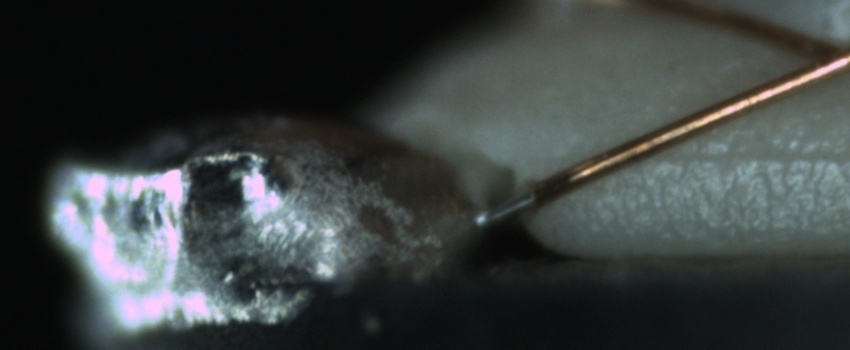CL: (771, 19, 848, 93)
DL: (637, 122, 849, 186)
TS: (476, 191, 533, 227)
